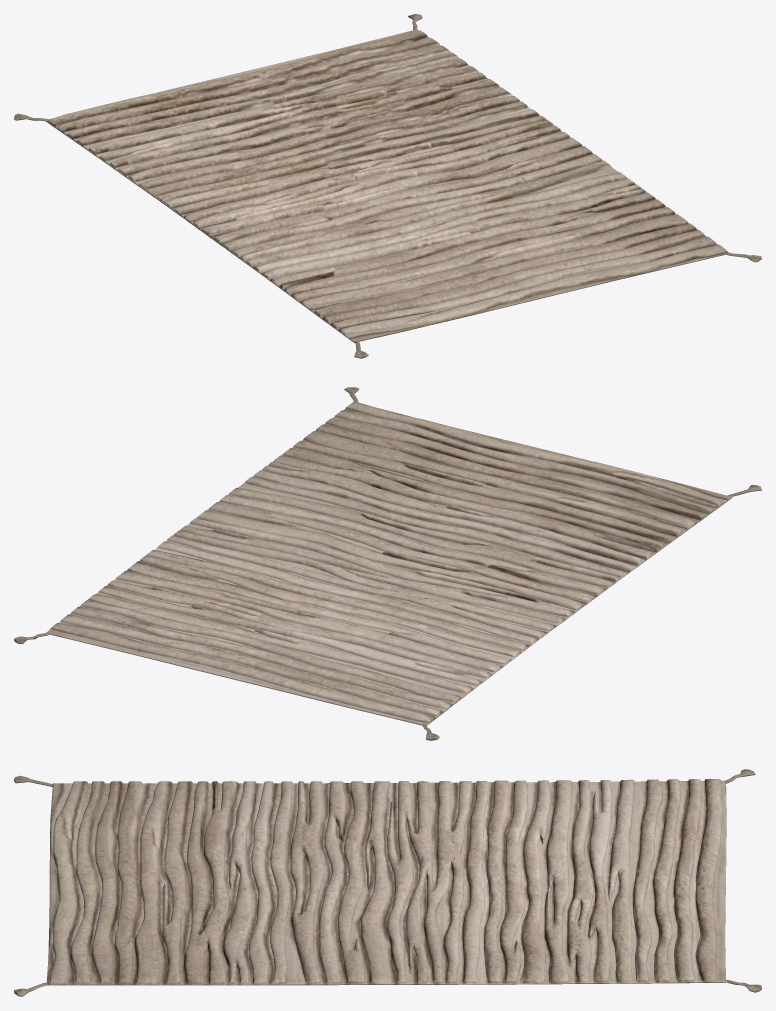
File: bankkontor-alfombra-pelo-largo.glb
3 views of the same model, one above another, from view 1: azimuth 30°, elevation 25°; view 2: azimuth 150°, elevation 25°; view 3: azimuth 270°, elevation 25° (orthographic). The views are drawn at different scales.
Parts seen in each view (by area): view 1: Mesh_0; view 2: Mesh_0; view 3: Mesh_0.
Boxes of the visible parts, x1,y1,x2,y2 form: Mesh_0: (14,14,761,358); Mesh_0: (14,387,761,740); Mesh_0: (14,769,761,996).
Bounding box in the file's own units: 1.91 × 0.0298 × 2.67.
1 material, 1 textured.
